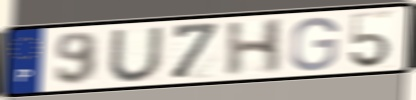5: (347, 8, 400, 71)
7: (171, 22, 223, 82)
9: (54, 30, 99, 87)
G: (288, 15, 341, 73)
H: (223, 17, 287, 79)
U: (106, 24, 166, 84)
